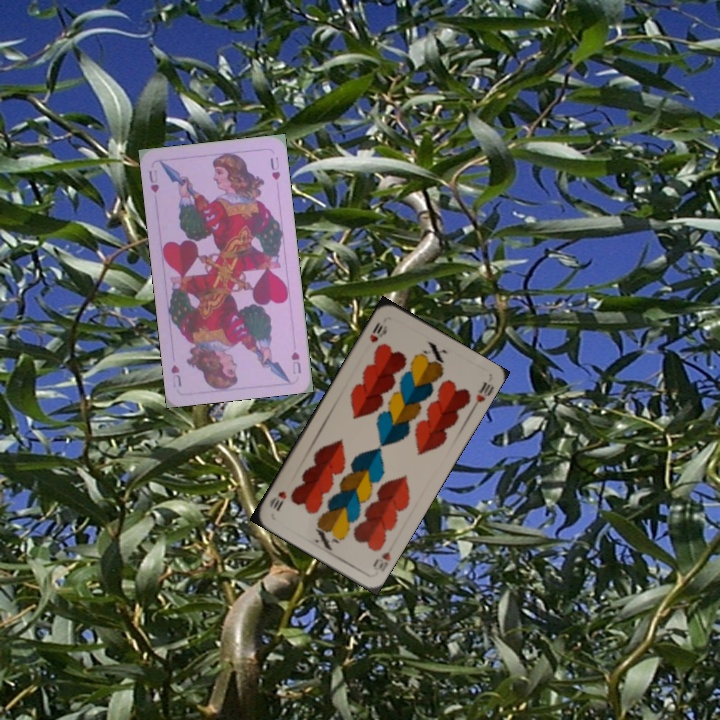H10: (365, 318, 390, 345), (368, 547, 393, 574)
HU: (145, 166, 162, 196), (287, 348, 304, 376)
